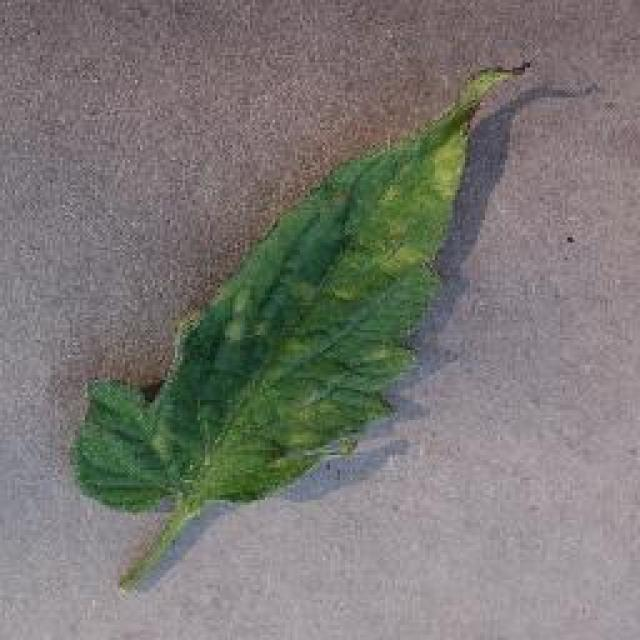Tomato mold leaf: (76, 69, 534, 519)
